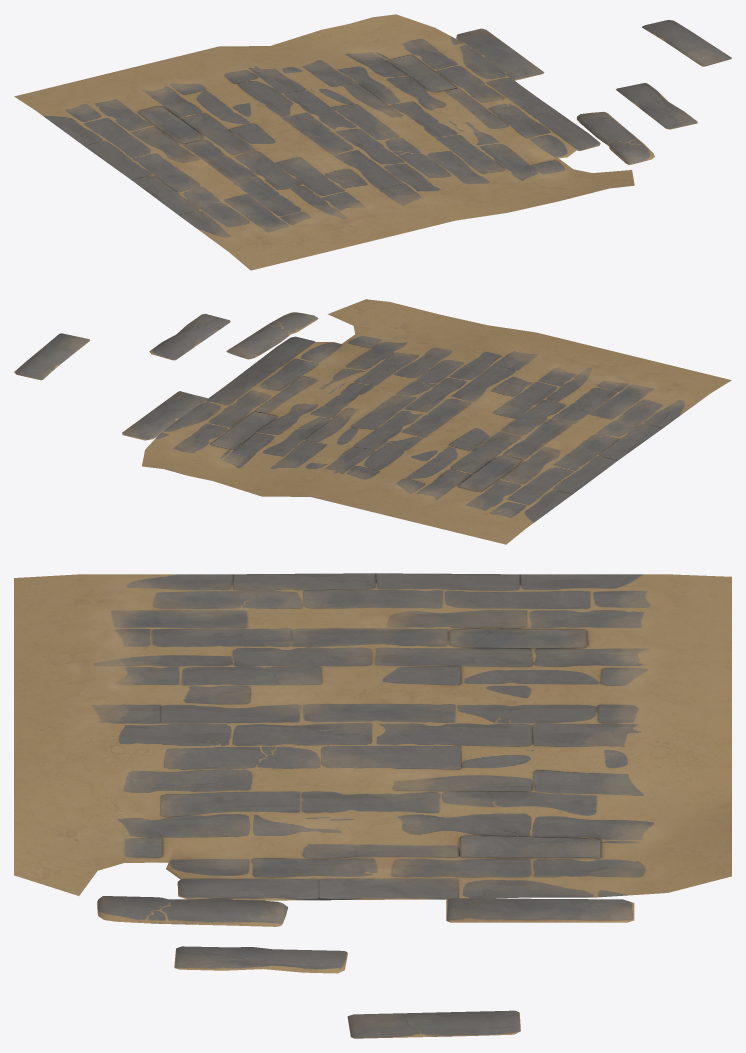
Rendered from SM_ENV_LKNVLD_Ground_Left_RoadToGate_02.FBX.
3 views of the same model, one above another, from view 1: azimuth 30°, elevation 25°; view 2: azimuth 150°, elevation 25°; view 3: azimuth 270°, elevation 25° (orthographic). The views are drawn at different scales.
Parts seen in each view (by area): view 1: SM_ENV_LKNVLD_Ground_Left_RoadToGate_02; view 2: SM_ENV_LKNVLD_Ground_Left_RoadToGate_02; view 3: SM_ENV_LKNVLD_Ground_Left_RoadToGate_02.
Boxes of the visible parts, bbox=[...] form: SM_ENV_LKNVLD_Ground_Left_RoadToGate_02: bbox=[14, 14, 731, 270]; SM_ENV_LKNVLD_Ground_Left_RoadToGate_02: bbox=[14, 299, 731, 544]; SM_ENV_LKNVLD_Ground_Left_RoadToGate_02: bbox=[14, 573, 731, 1038].
Size of the model in its own units: 1218 by 35.15 by 842.
